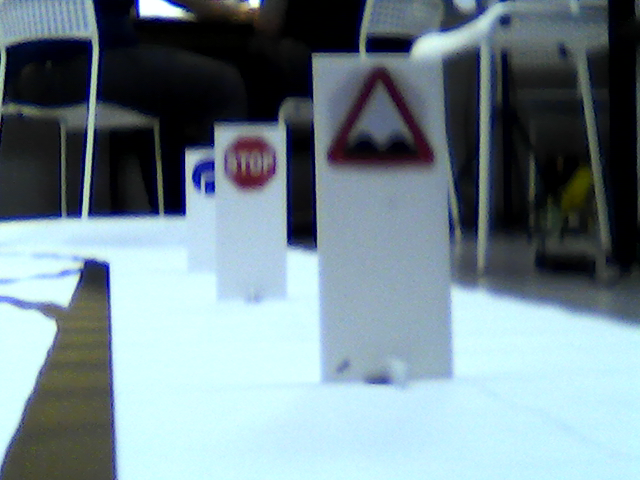Nerov: (331, 69, 432, 161)
Stop: (219, 132, 278, 191)
